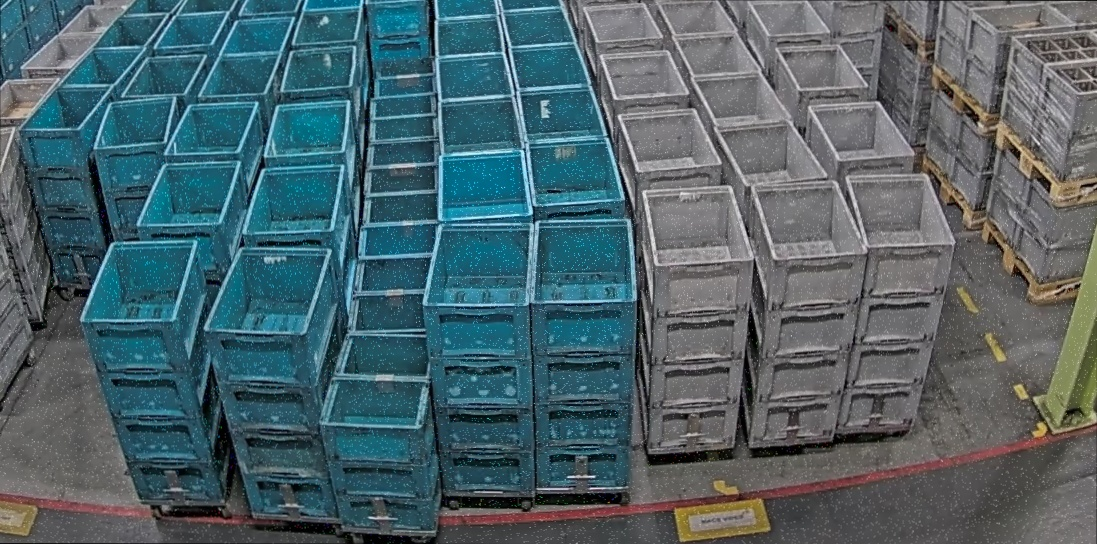4G: (743, 178, 870, 450), (833, 171, 957, 439), (641, 184, 756, 453)
B4: (78, 238, 233, 505), (202, 246, 345, 518), (420, 222, 534, 495), (527, 216, 639, 491), (92, 93, 179, 243), (471, 494, 475, 496)
B8: (317, 333, 440, 533)
